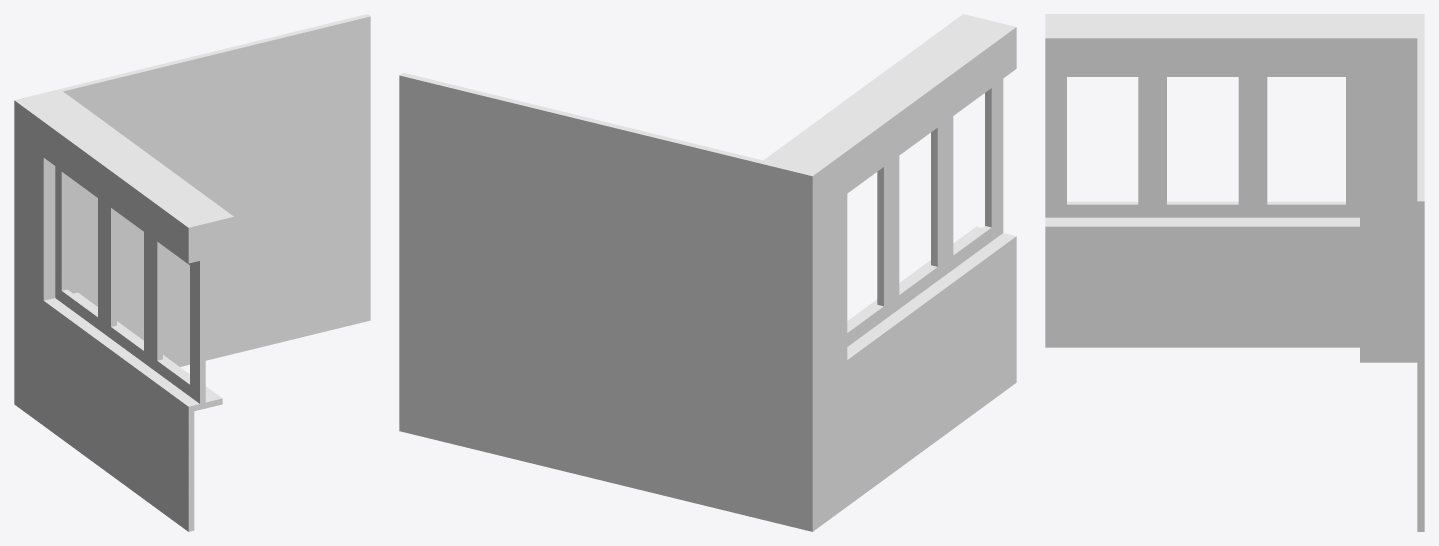
Rendered from Wall.gltf.
3 views of the same model, side by side, from view 1: azimuth 30°, elevation 25°; view 2: azimuth 150°, elevation 25°; view 3: azimuth 270°, elevation 25° (orthographic). The views are drawn at different scales.
Bounding box in the file's own units: 62 × 51 × 53.
1 material, 1 textured.
